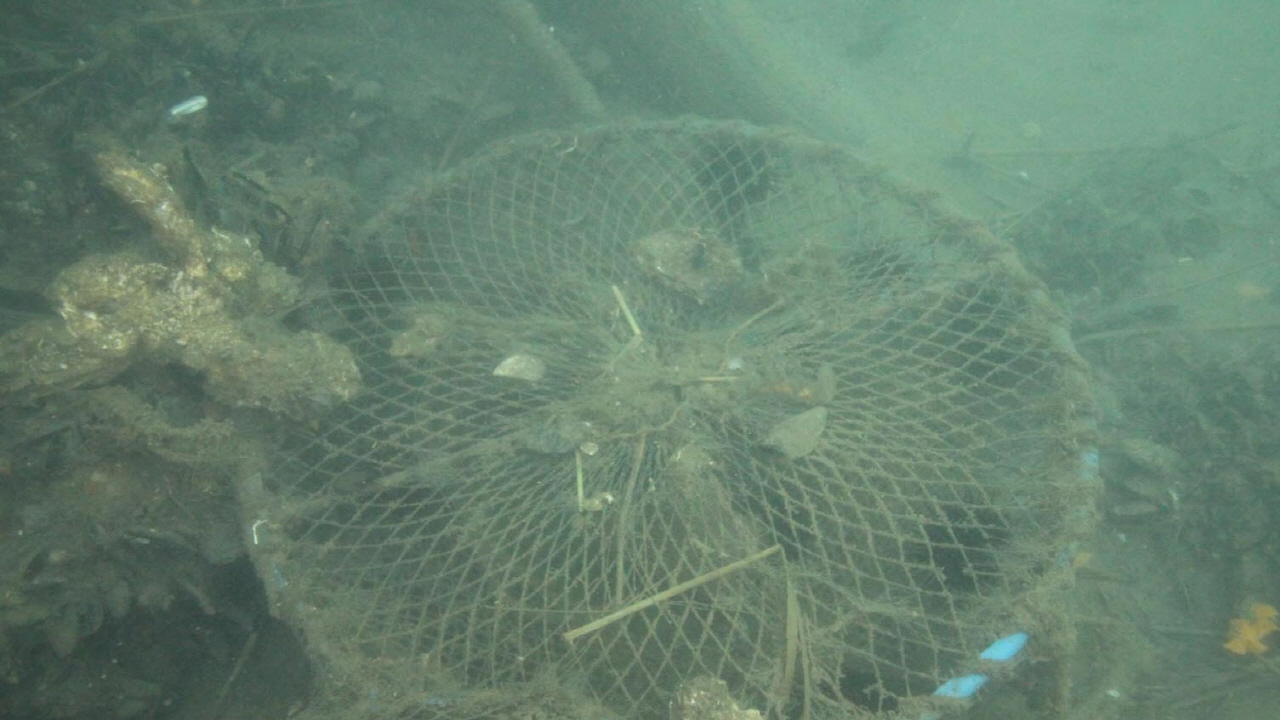circular fish trap: (231, 115, 1104, 720)
